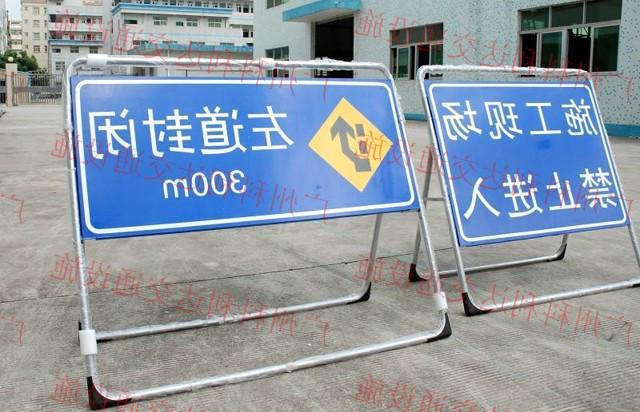sign: (62, 55, 423, 248), (429, 56, 631, 259)
